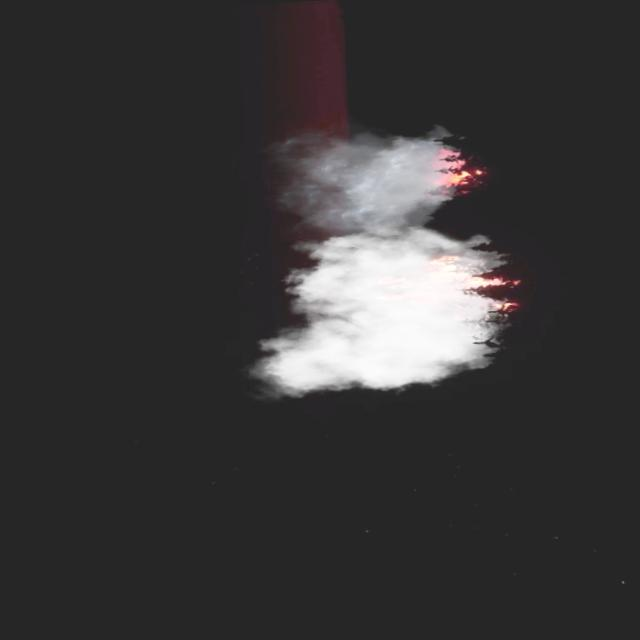fire: (379, 247, 532, 327), (431, 146, 479, 196)
smoke: (246, 126, 520, 398)
